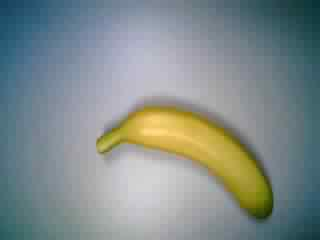banana: (95, 103, 277, 225)
